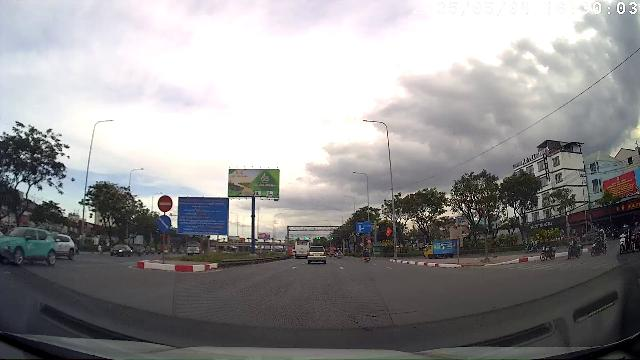102-cam-di-nguoc-chieu: (157, 194, 173, 212)
302a-huong-phai-di-vong-chuong-ngai-vat-1: (156, 214, 172, 232)
